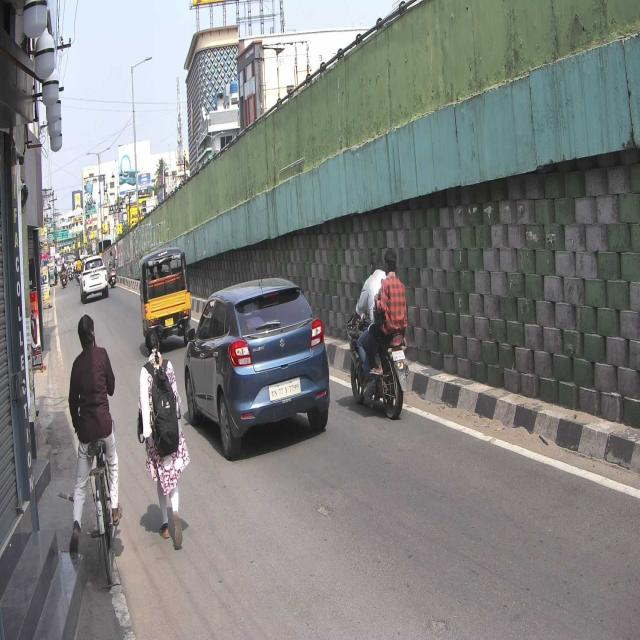double_rider: (345, 245, 411, 422)
